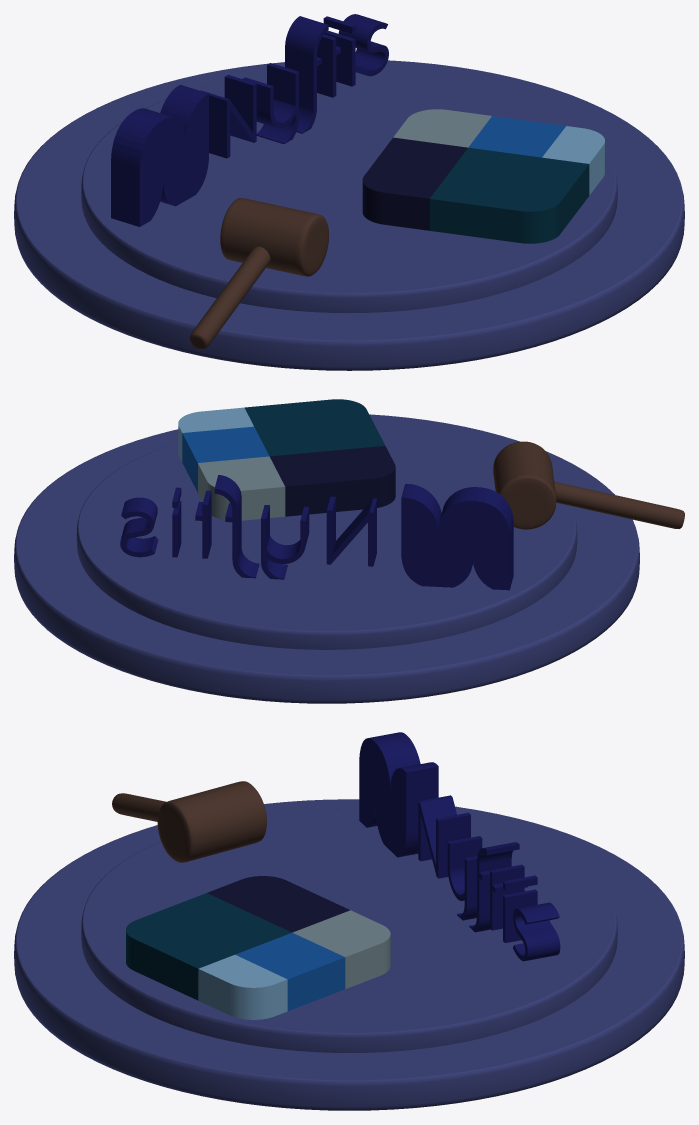
Rendered from nyfits.gltf.
3 views of the same model, one above another, from view 1: azimuth 30°, elevation 25°; view 2: azimuth 150°, elevation 25°; view 3: azimuth 270°, elevation 25° (orthographic). The views are drawn at different scales.
Visible parts, largest first — view 1: Cylinder, Curve.006, Curve, Cylinder.007; view 2: Cylinder, Curve.006, Curve, Cylinder.007; view 3: Cylinder, Curve.006, Curve, Cylinder.007.
Boxes of the visible parts, <box> form: Cylinder: <box>14,60,684,370</box>; Curve.006: <box>362,109,604,243</box>; Curve: <box>111,14,388,226</box>; Cylinder.007: <box>189,198,328,349</box>; Cylinder: <box>14,414,639,703</box>; Curve.006: <box>178,399,395,520</box>; Curve: <box>120,475,513,590</box>; Cylinder.007: <box>493,441,684,529</box>; Cylinder: <box>14,799,684,1110</box>; Curve.006: <box>126,876,390,1019</box>; Curve: <box>359,732,560,961</box>; Cylinder.007: <box>112,781,266,862</box>.
Bounding box in the file's own units: 2.72 × 0.6414 × 2.72.
